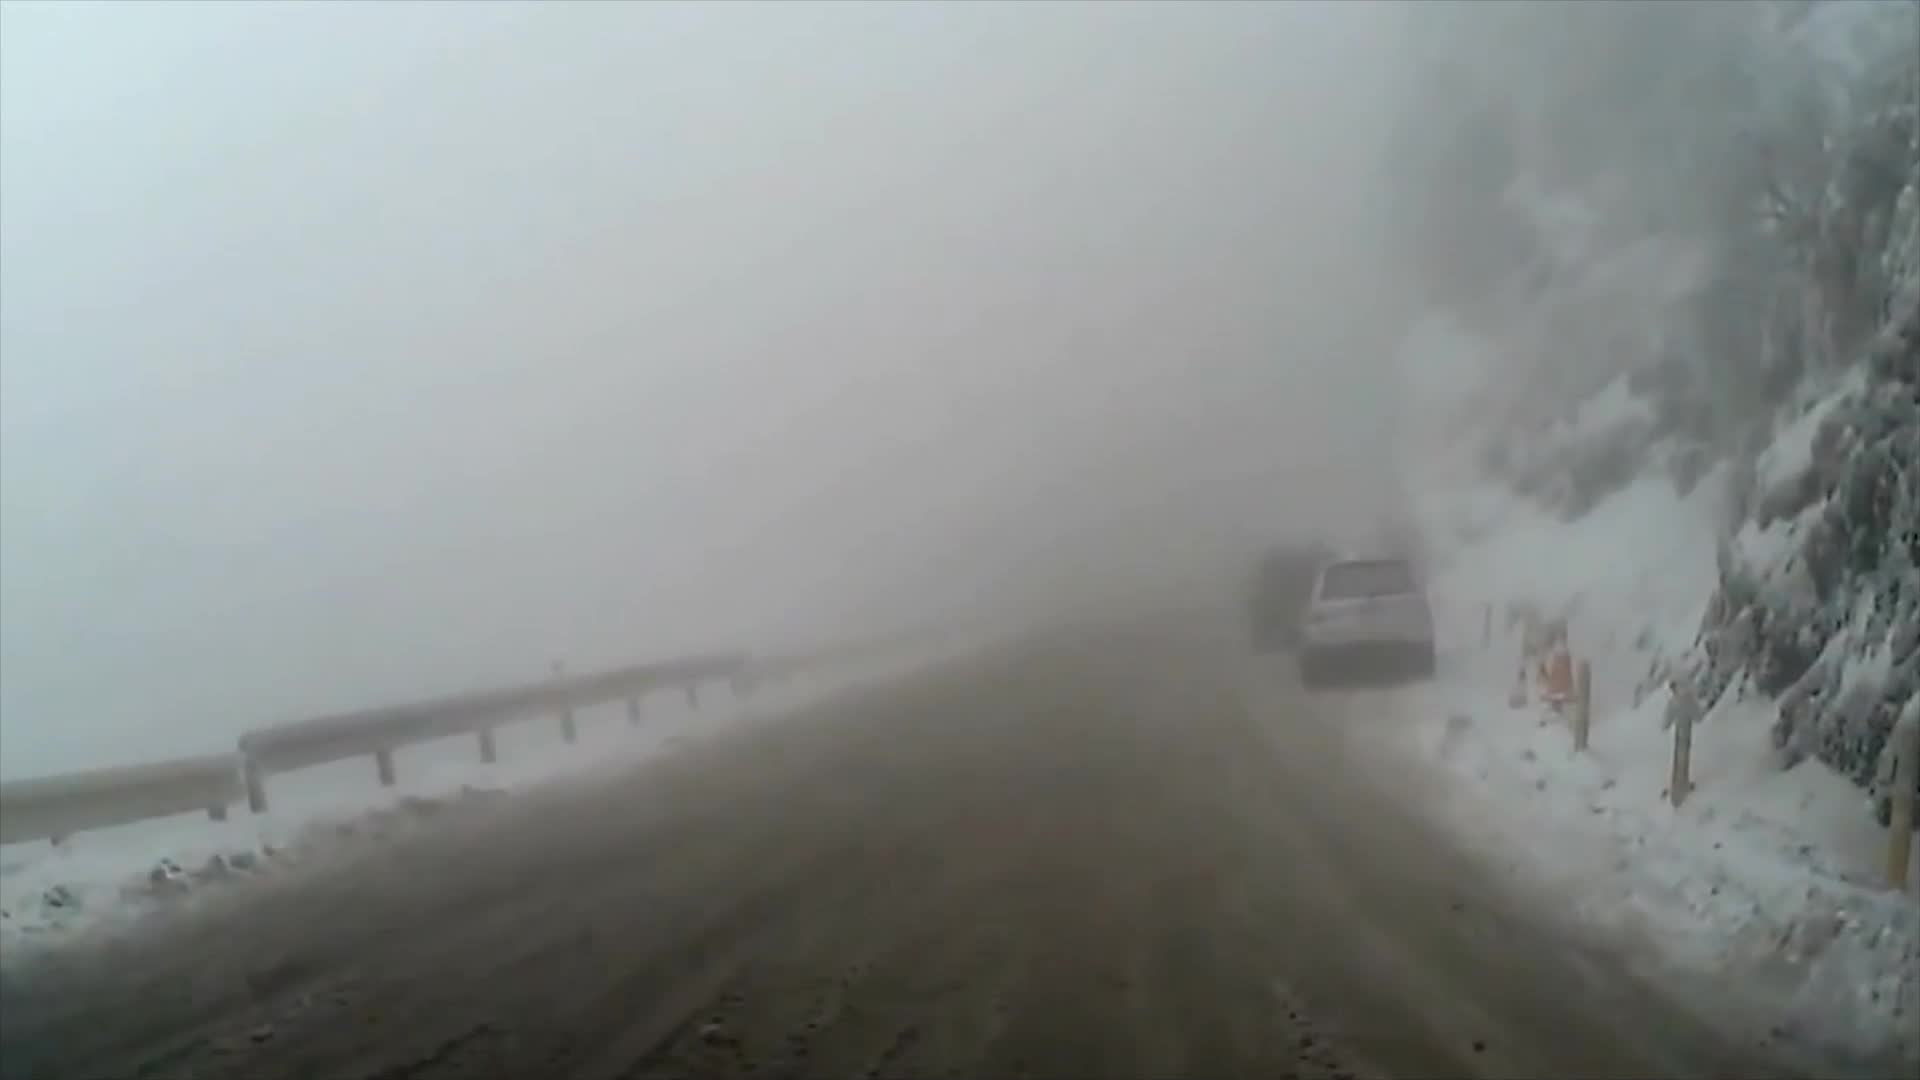vehicle: (1305, 545, 1439, 683), (1240, 545, 1352, 659)
